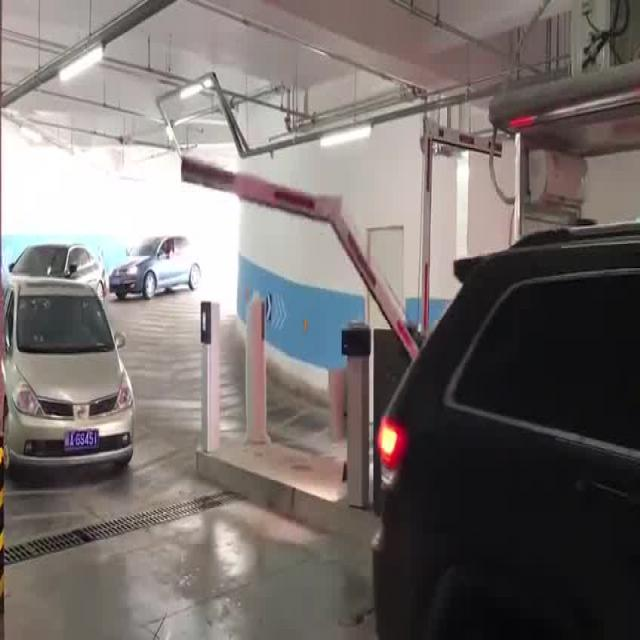CarIn: (354, 221, 640, 640), (1, 249, 167, 551), (112, 224, 202, 311)
GateOpened: (176, 140, 426, 383), (407, 103, 505, 332)
